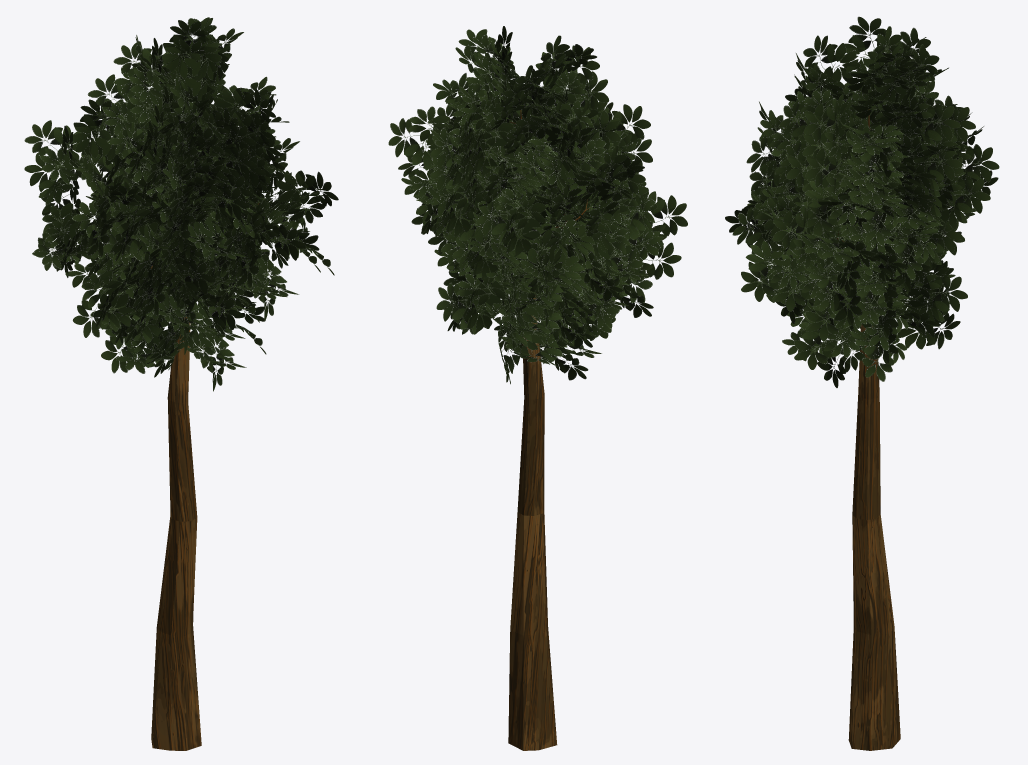
File: Ulin4.fbx
The picture shows the model from 3 angles, left to right: view 1: azimuth 30°, elevation 25°; view 2: azimuth 150°, elevation 25°; view 3: azimuth 270°, elevation 25°; orthographic projection.
Parts seen in each view (by area): view 1: Plane.001; view 2: Plane.001; view 3: Plane.001.
Part boxes in pixels (left/top/right/bottom): Plane.001: left=24, top=17, right=338, bottom=750; Plane.001: left=388, top=26, right=687, bottom=750; Plane.001: left=725, top=16, right=999, bottom=750.
Size of the model in its own units: 1356 by 3337 by 1234.
